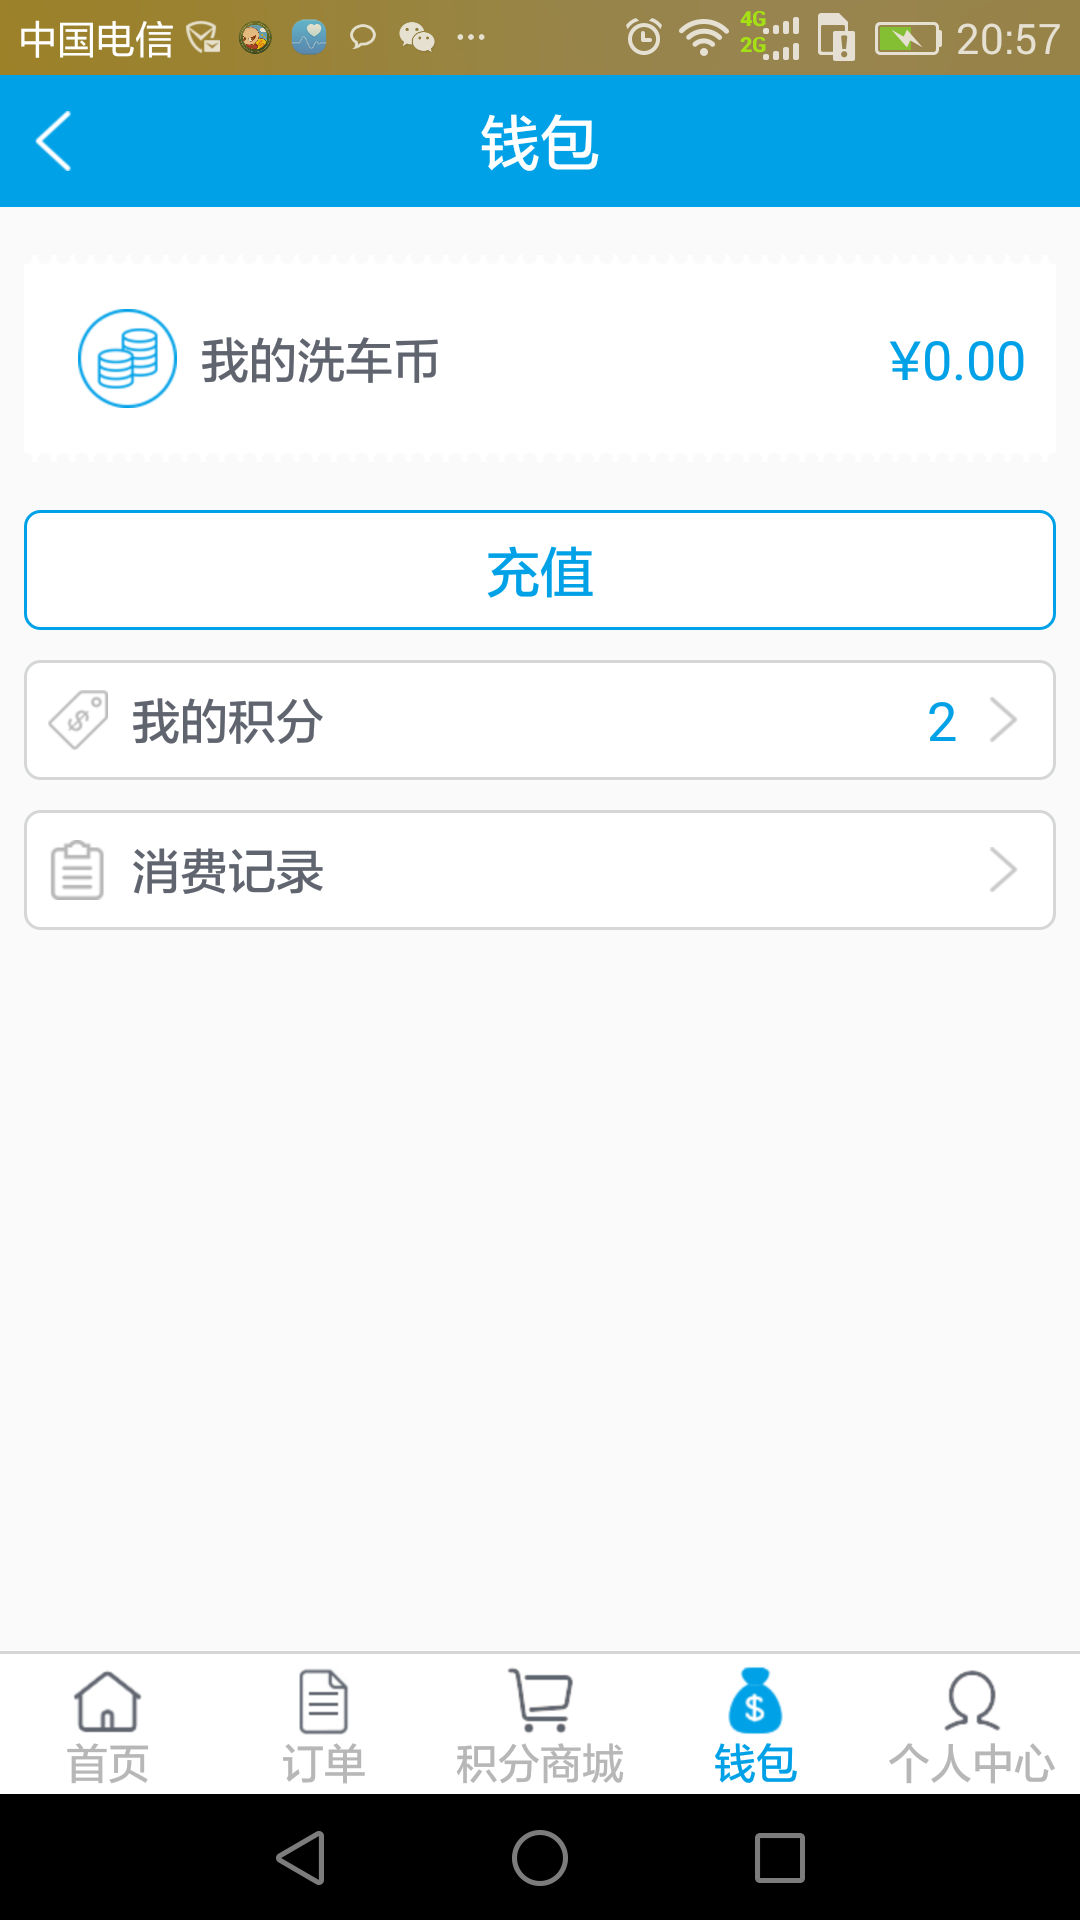button: (11, 495, 1069, 649), (20, 796, 1063, 935), (12, 659, 1067, 790)
nav: (12, 1643, 1080, 1796)
